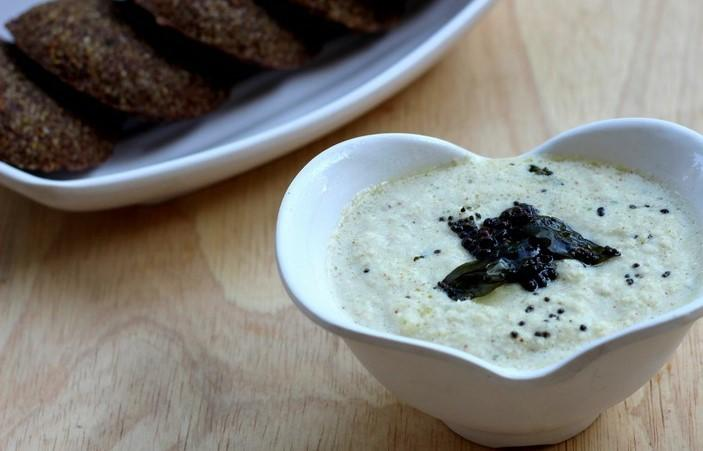CoconutChutney: (323, 160, 703, 365)
